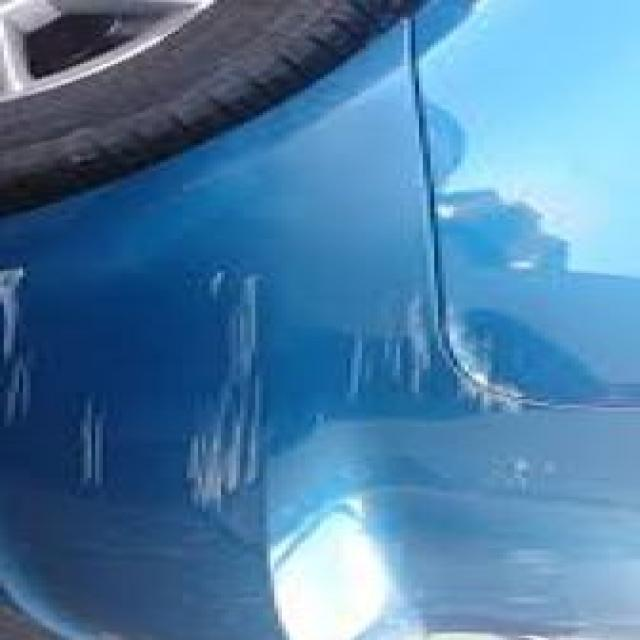scratch: (11, 234, 568, 556)
